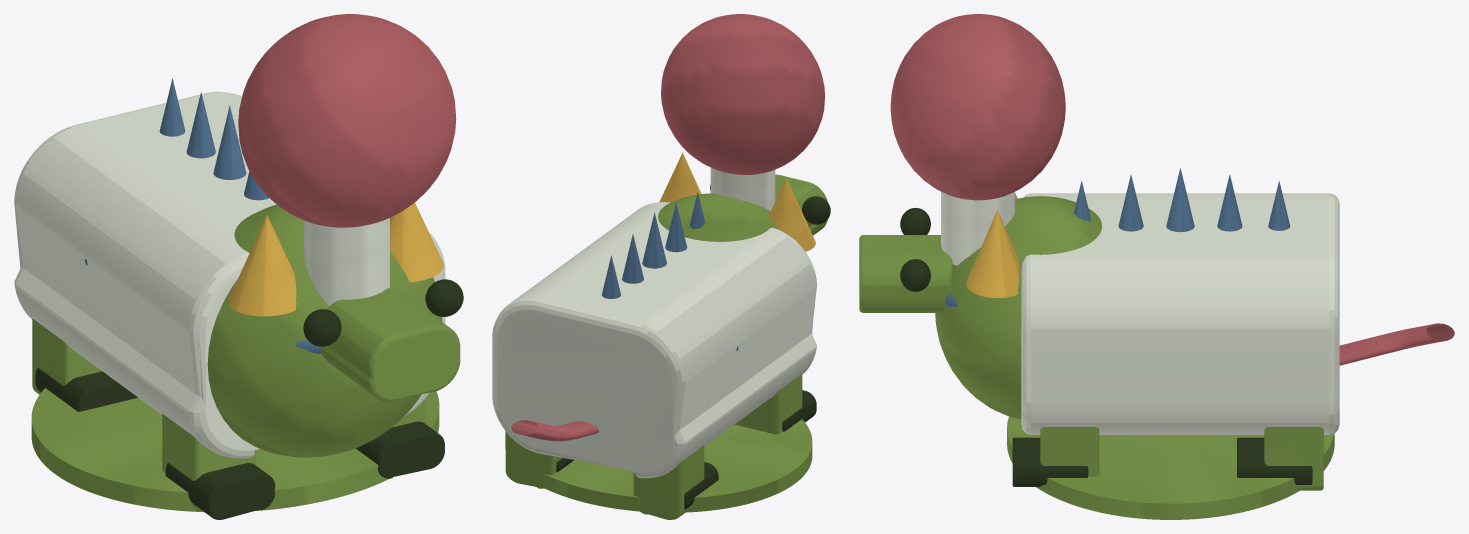
The model's file is 1279_爬行动物图鉴_环颈蜥.glb.
The picture shows the model from 3 angles, left to right: view 1: azimuth 30°, elevation 25°; view 2: azimuth 150°, elevation 25°; view 3: azimuth 270°, elevation 25°; orthographic projection. The views are drawn at different scales.
Visible parts, largest first — view 1: card_1279; view 2: card_1279; view 3: card_1279.
Part boxes in pixels (x1=…): card_1279: x1=14, y1=14, x2=463, y2=519; card_1279: x1=492, y1=14, x2=830, y2=519; card_1279: x1=859, y1=14, x2=1454, y2=519.
Bounding box in the file's own units: 0.7671 × 1 × 1.27.
